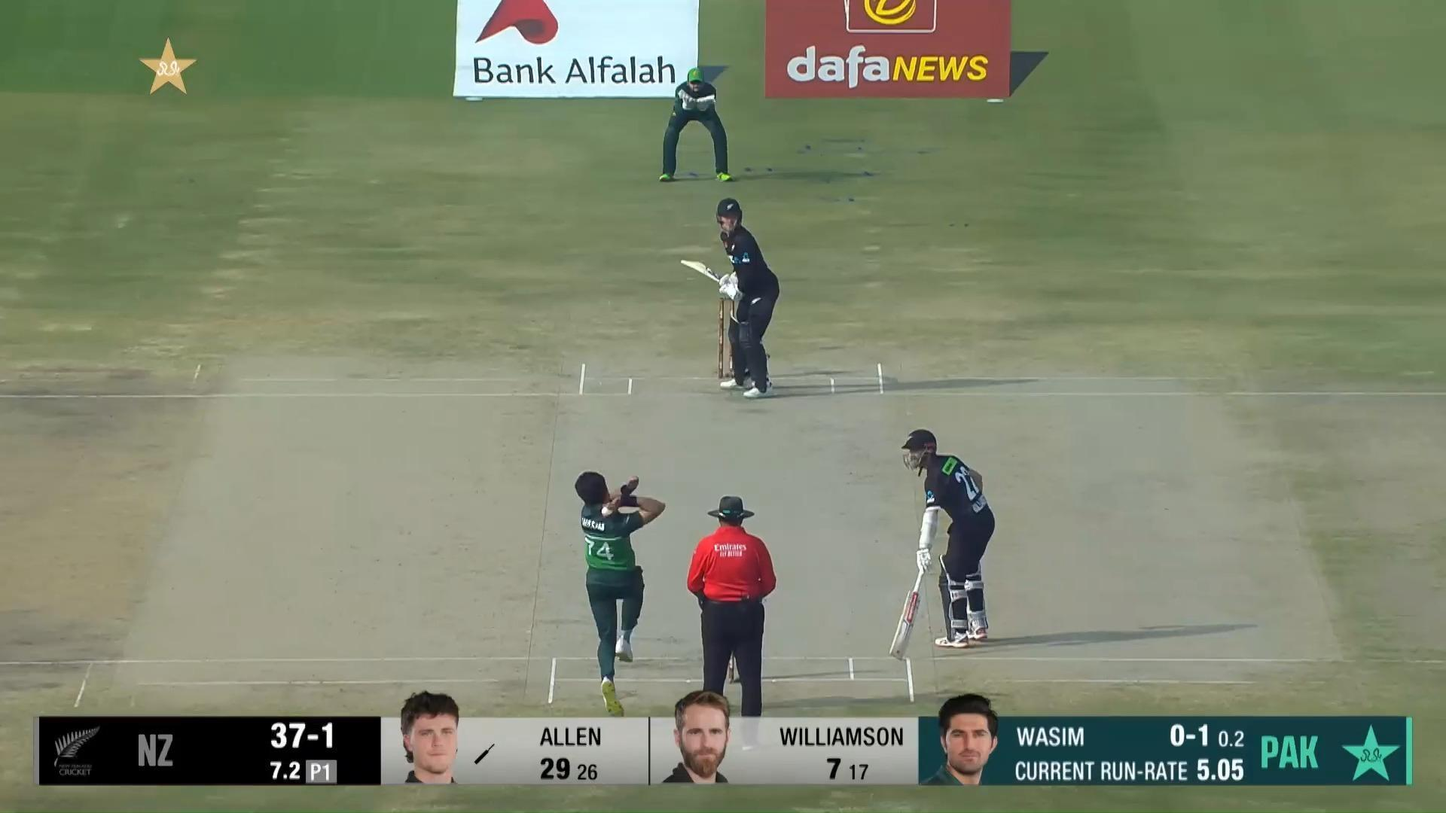BM 1: (681, 198, 780, 399)
BO: (574, 469, 668, 720)
